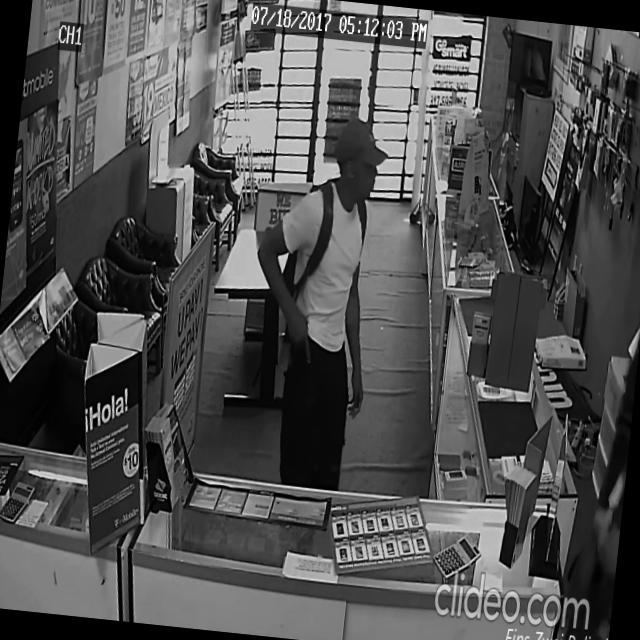gun: (282, 319, 318, 396)
person with a gun: (230, 106, 394, 492)
